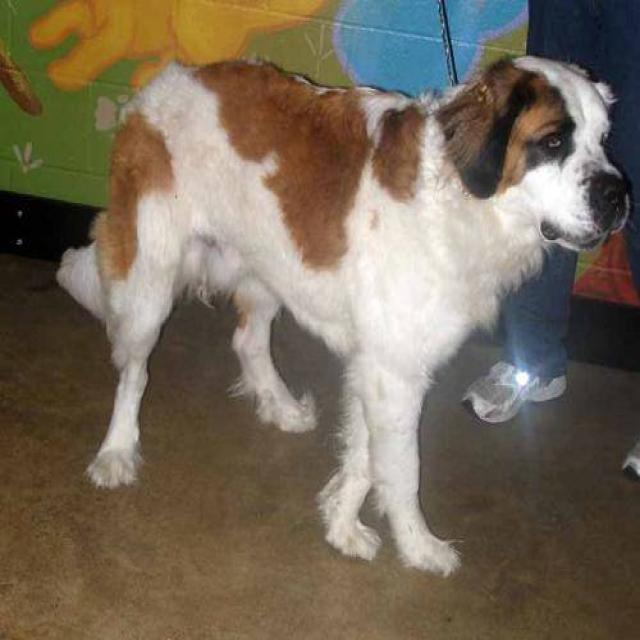dog: (54, 50, 634, 578)
